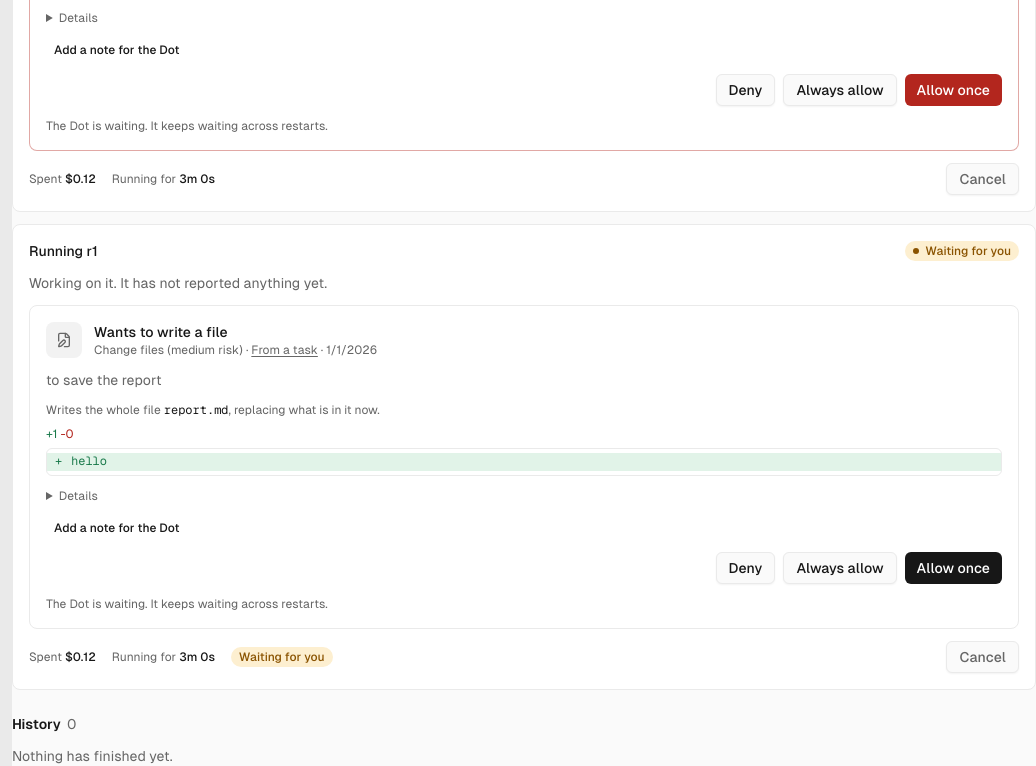
Test: the live progress line › shows the approval a task waits for as a card on the task, answers it there and keeps the receipt in place
(page scrolled)
Expected: the text "Waiting for you" is shown, [905,241,1019,261]
Expected: the text "to save the report" is shown, [46,372,162,388]
Click the 2nd button "Allow once".
click(953, 568)  # box [905,552,1002,584]
(page scrolled)
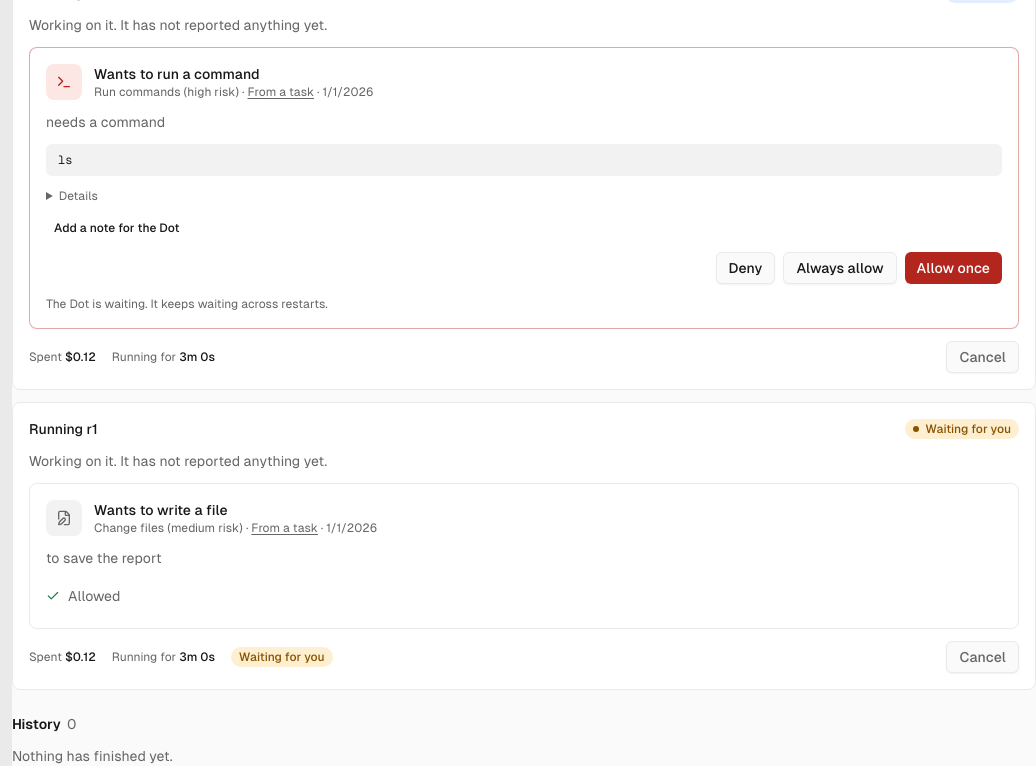
Result: the message reads "Allowed" at [68,588,120,604]
